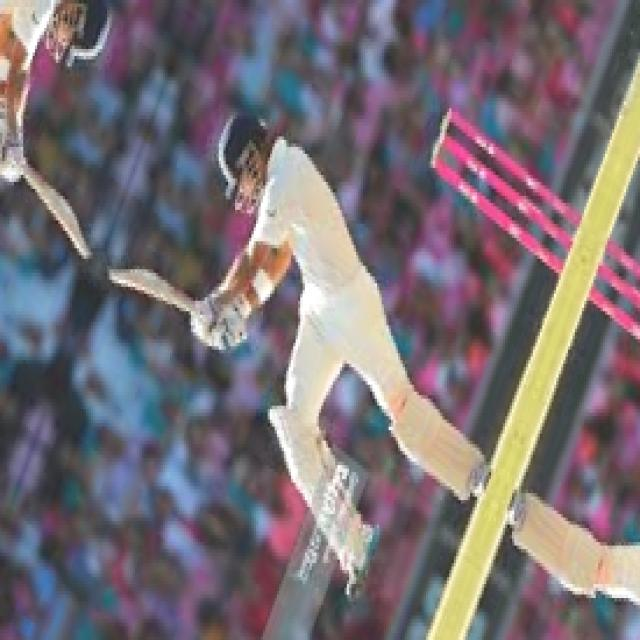toe: (103, 264, 140, 288)
